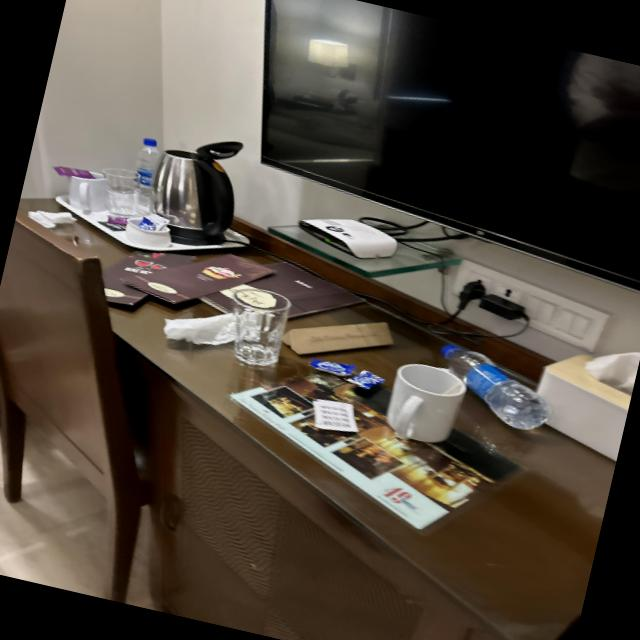mess: (0, 97, 640, 640)
